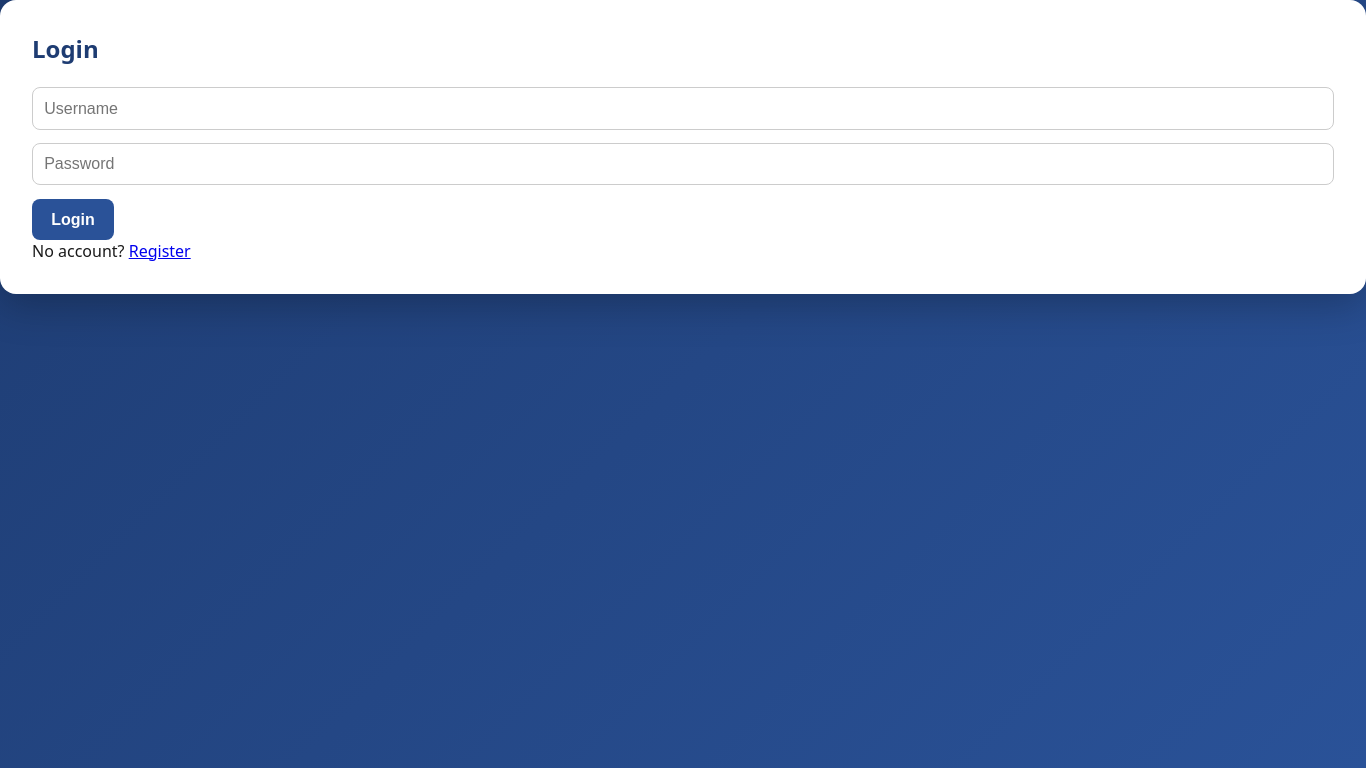
Login page › shows validation errors for empty fields
Click the button "Login".
click(73, 220)  # box [32,199,114,240]
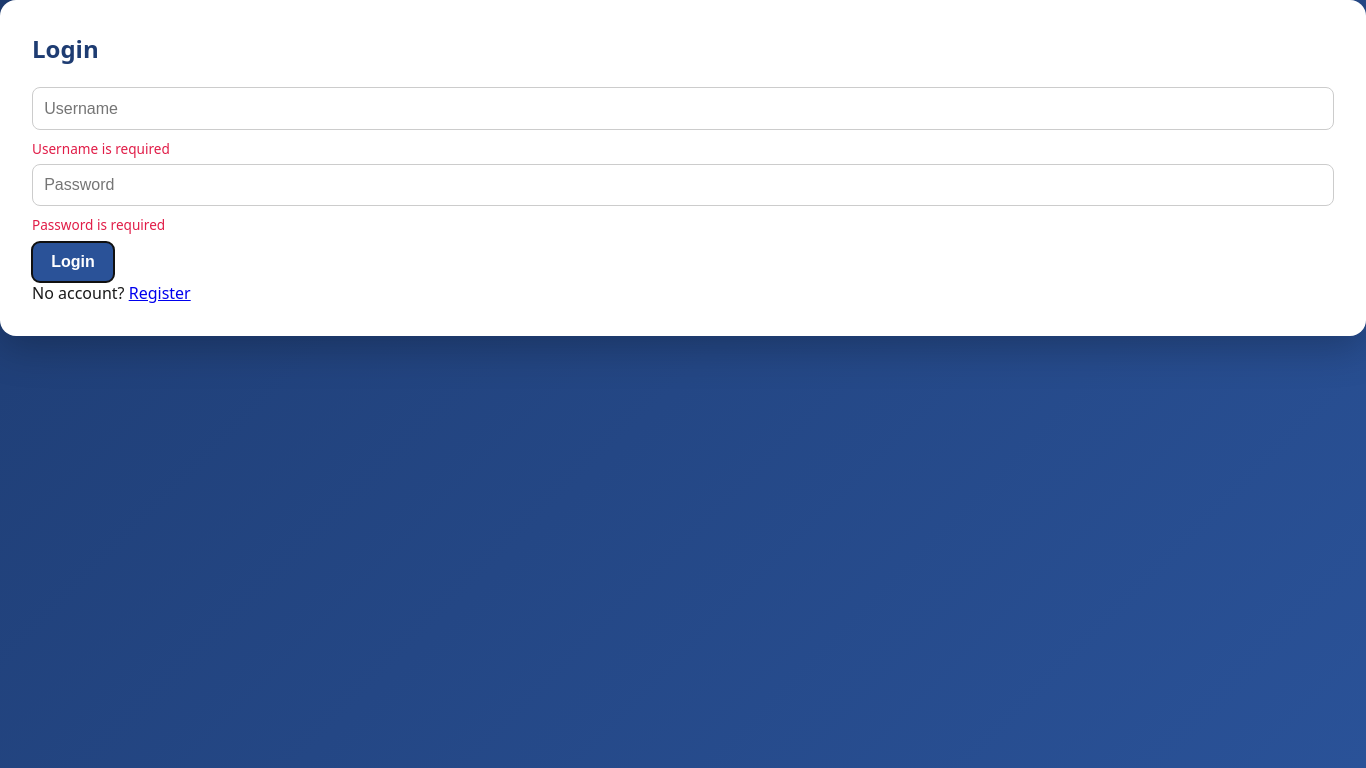
Now the text "Username is required" is shown, box [32,138,170,158]
Now the text "Password is required" is shown, box [32,215,165,234]
